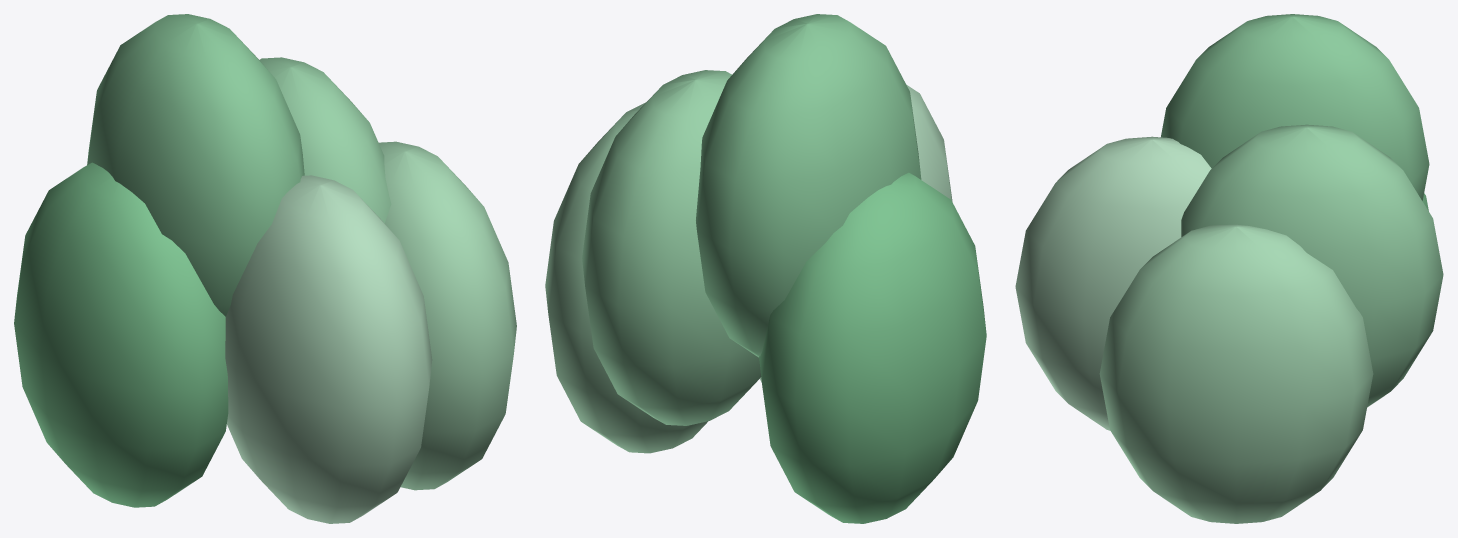
Rendered from bush_ball.glb.
3 renders of one model, left to right at view 1: azimuth 30°, elevation 25°; view 2: azimuth 150°, elevation 25°; view 3: azimuth 270°, elevation 25°, orthographic. The views are drawn at different scales.
Parts seen in each view (by area): view 1: model; view 2: model; view 3: model.
Boxes of the visible parts, x1,y1,x2,y2 form: model: (14,14,516,523); model: (545,14,986,523); model: (1015,14,1443,523).
Size of the model in its own units: 0.5 by 0.55 by 0.5.
